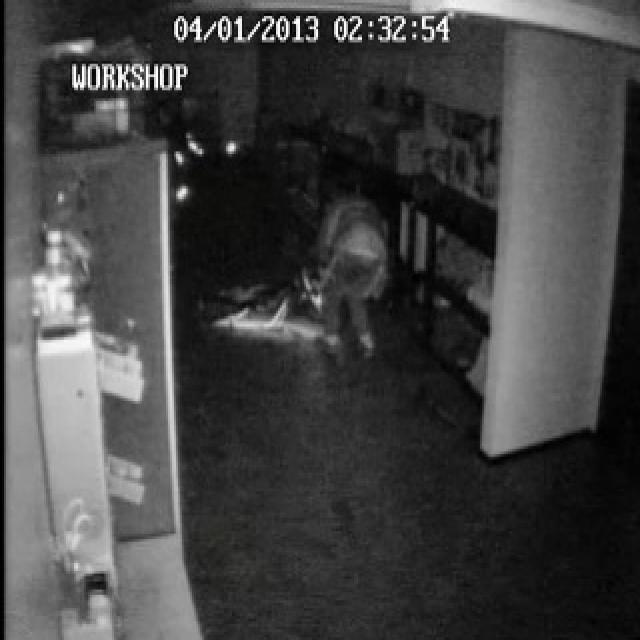thief: (320, 190, 388, 359)
